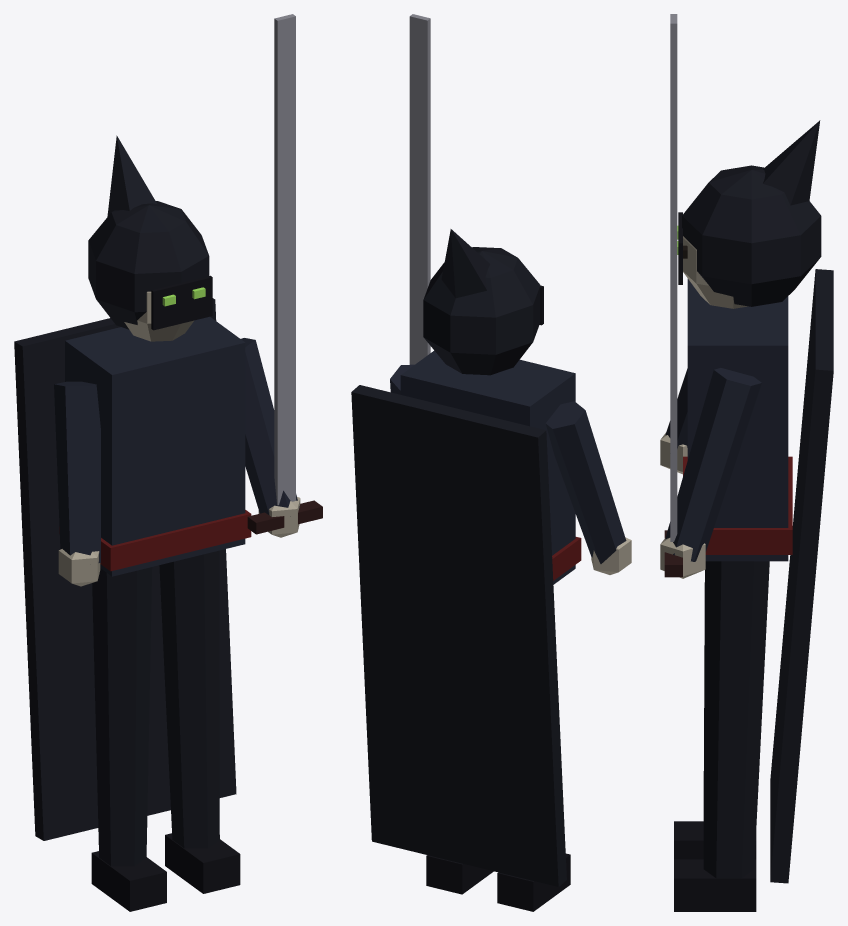
File: nachtvogt.glb
The picture shows the model from 3 angles, left to right: view 1: azimuth 30°, elevation 25°; view 2: azimuth 150°, elevation 25°; view 3: azimuth 270°, elevation 25°; orthographic projection. The views are drawn at different scales.
Size of the model in its own units: 0.6724 by 2.21 by 0.3793.
Materials: 1 (1 with a texture image).
